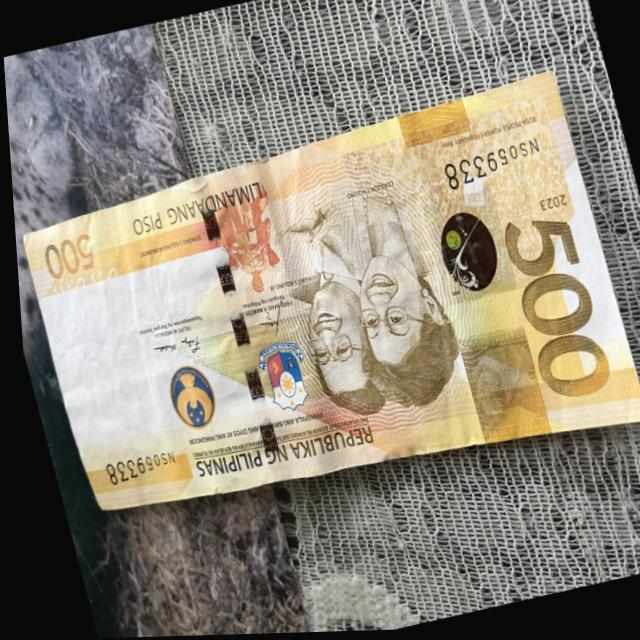concealed_value: (451, 324, 549, 450)
optically_variable_device: (418, 196, 514, 310)
